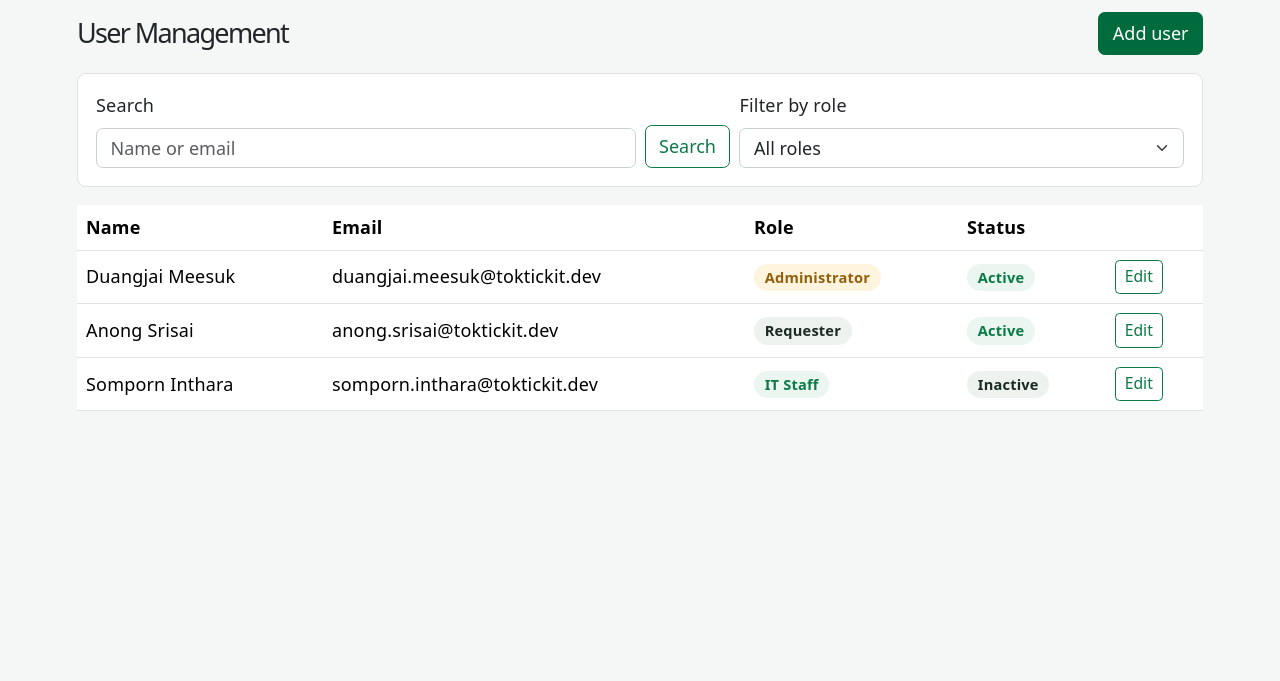
Test: UserManagement › UI-07: Set New Password shows the one-time password for that user
The image size is (1280, 681).
Click the button with aria-label "Edit Anong Srisai". click: point(1139, 330)
box: [1115,313,1163,348]
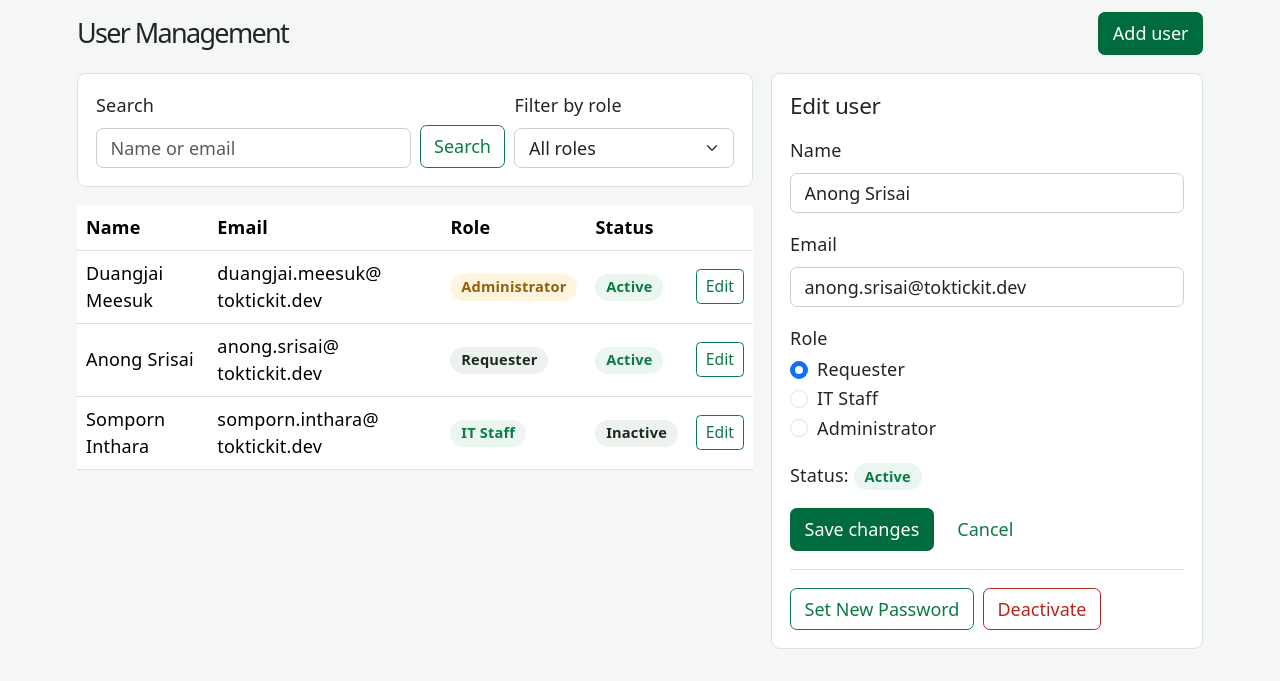
Click the button "Set New Password". click: point(882, 609)
box: [790,588,974,630]
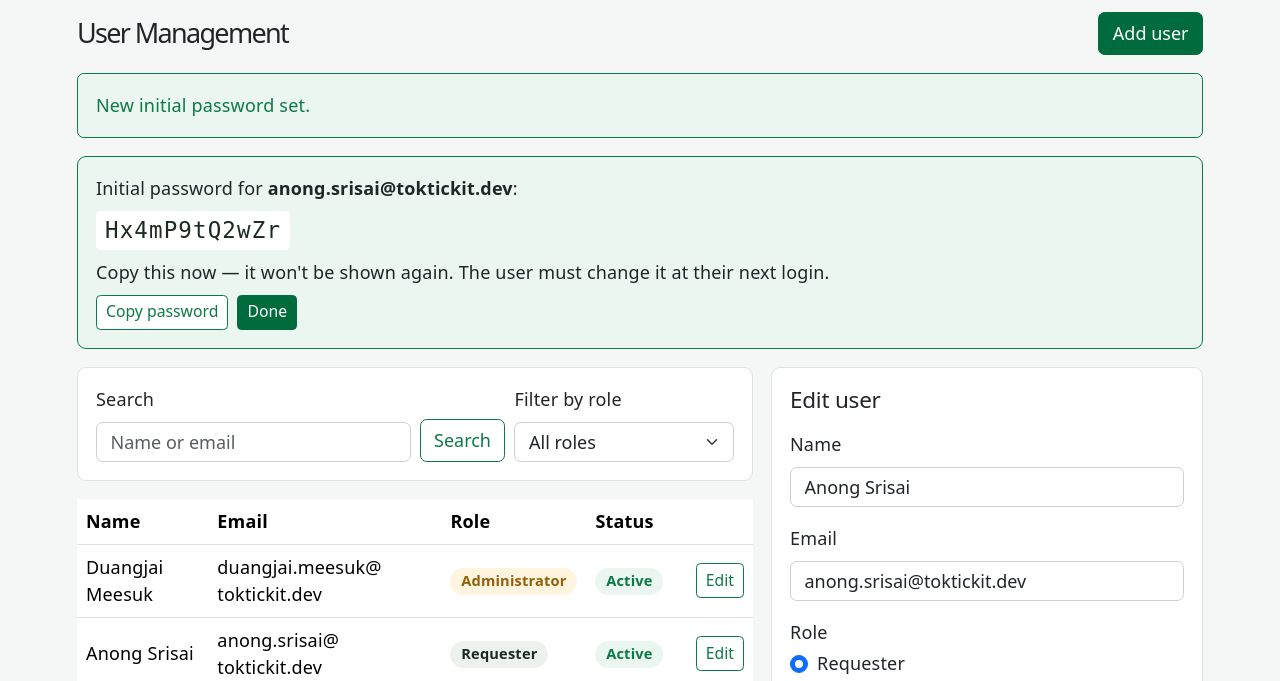
Result: the text "Hx4mP9tQ2wZr" is shown at [105,217,281,243]
